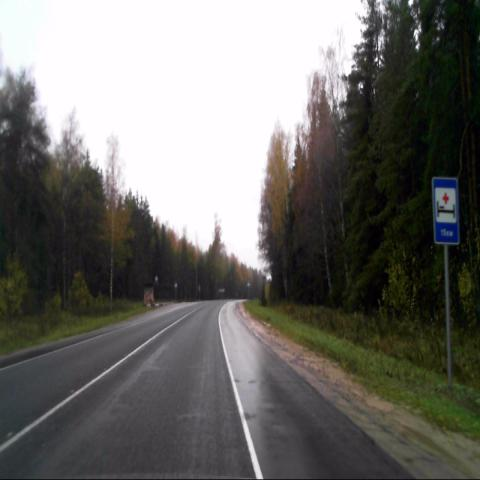7_2: (431, 176, 461, 248)
